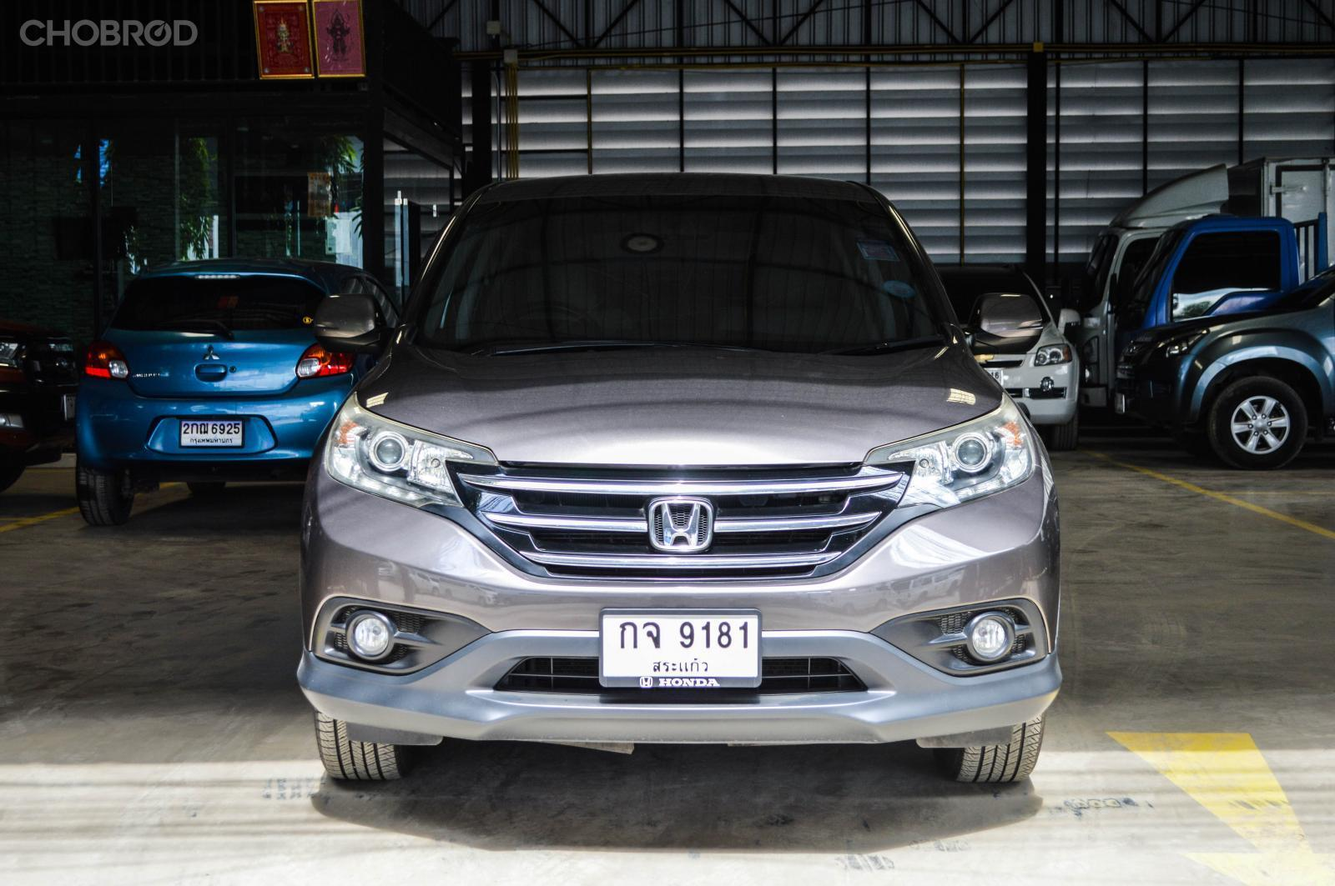license-plate: (598, 606, 763, 691)
